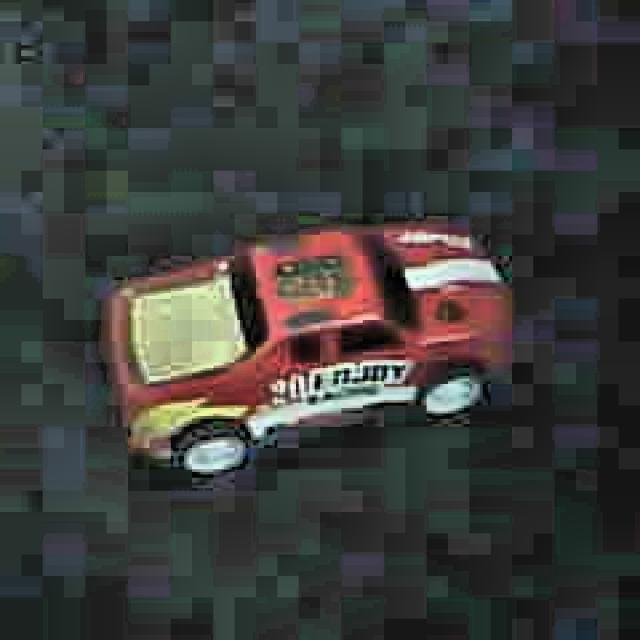car: (103, 219, 517, 488)
